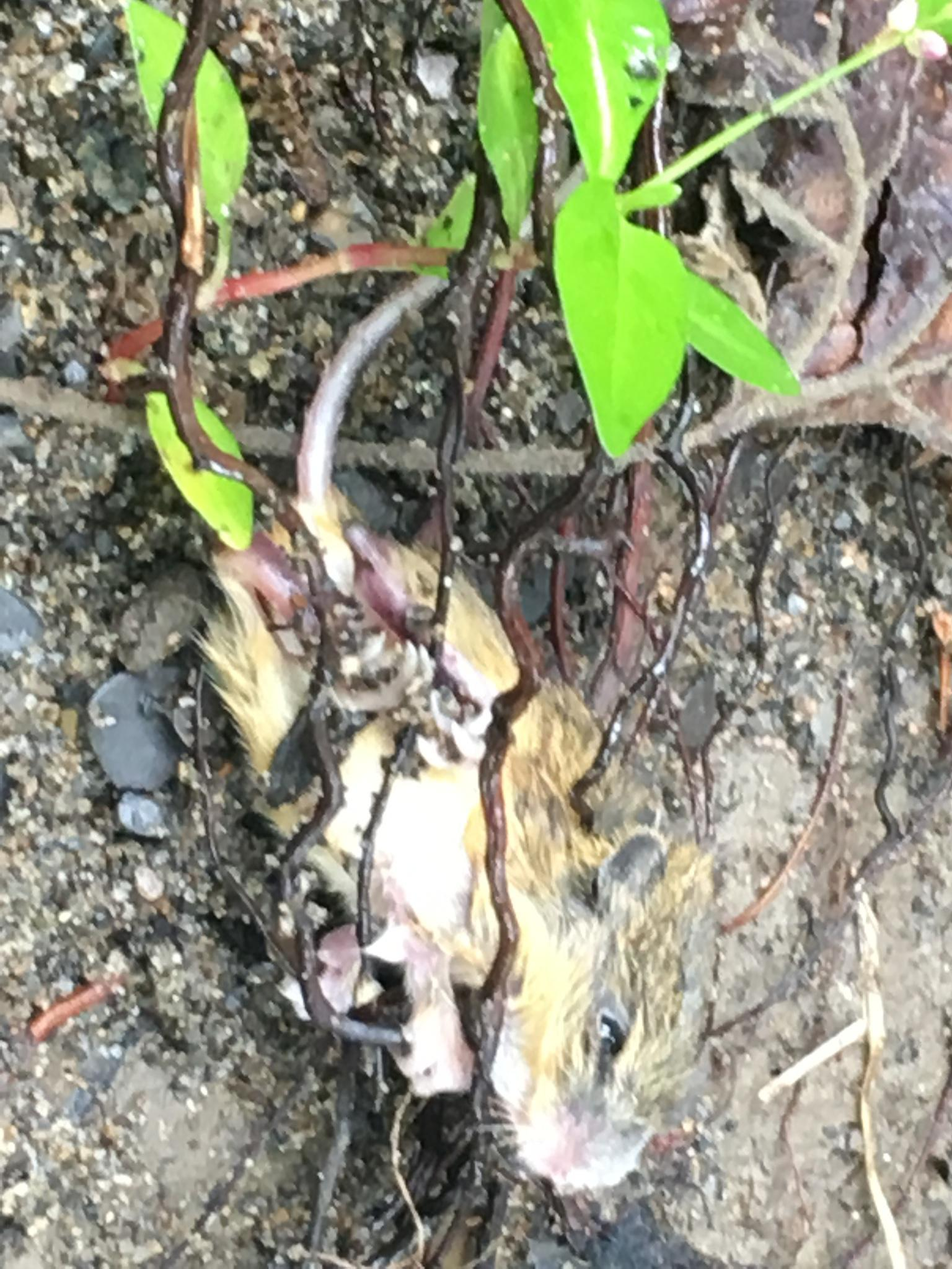rat: (204, 270, 687, 1192)
